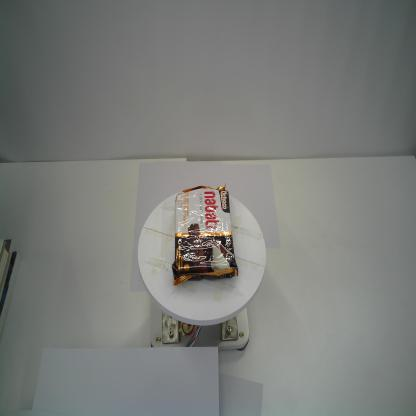Dessert: (170, 185, 240, 285)
